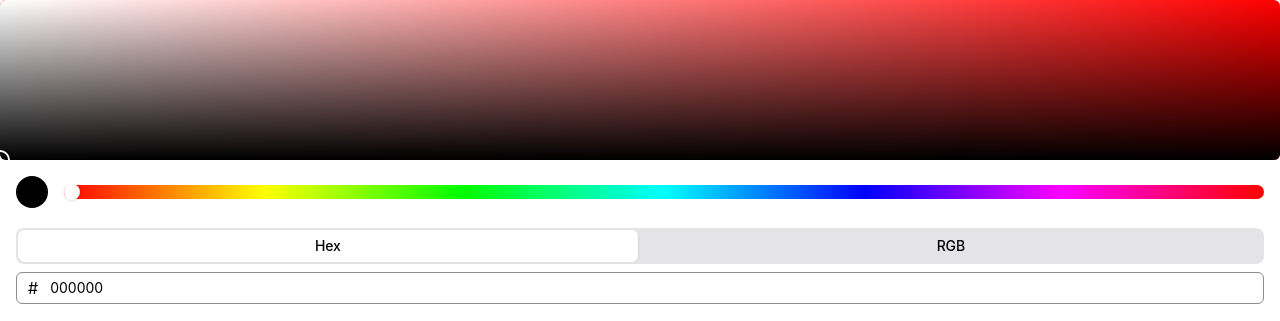
components/color-picker/RuiColorPicker.vue › should handle clicks on the UI selector
This screenshot has width=1280, height=321.
Note: Drag hue to the end (color red)
Click the slider named "Hue": [664, 192] box 64,185 -> 1264,199
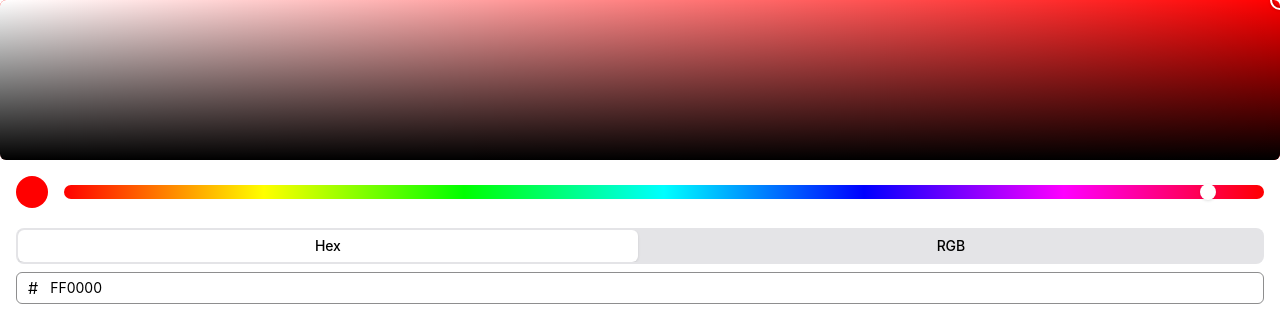
Now the field named "Hex color" holds "ff0000", box 38,272 -> 1264,304
Note: Drag board to the middle
Click the slider named "Color saturation and brightness": [640, 80] box 0,0 -> 1279,160
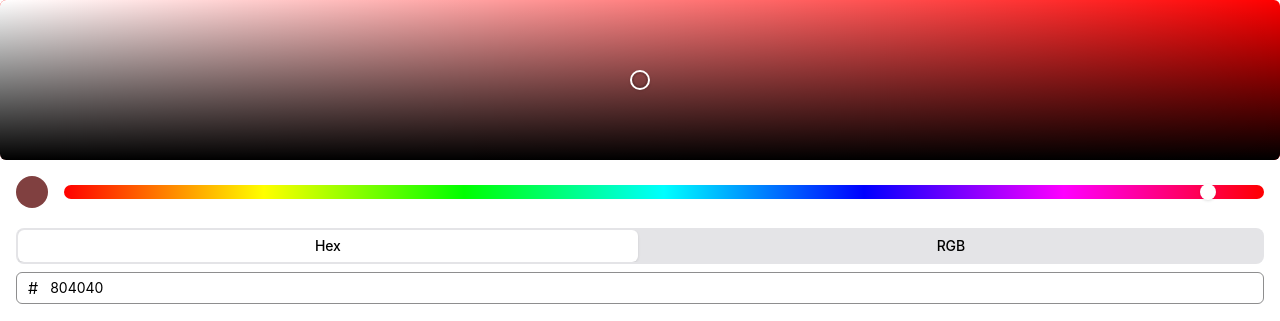
Now the field named "Hex color" holds "804040", box 38,272 -> 1264,304
